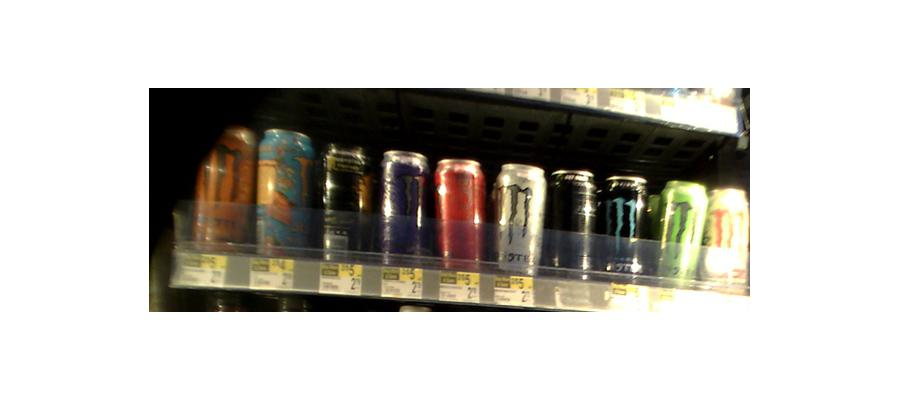bottle: (191, 118, 253, 253), (257, 128, 314, 258), (431, 155, 486, 271), (375, 147, 427, 267), (491, 162, 544, 278), (322, 141, 372, 262), (598, 172, 651, 277), (548, 169, 597, 280), (655, 179, 705, 286), (709, 184, 749, 286)
